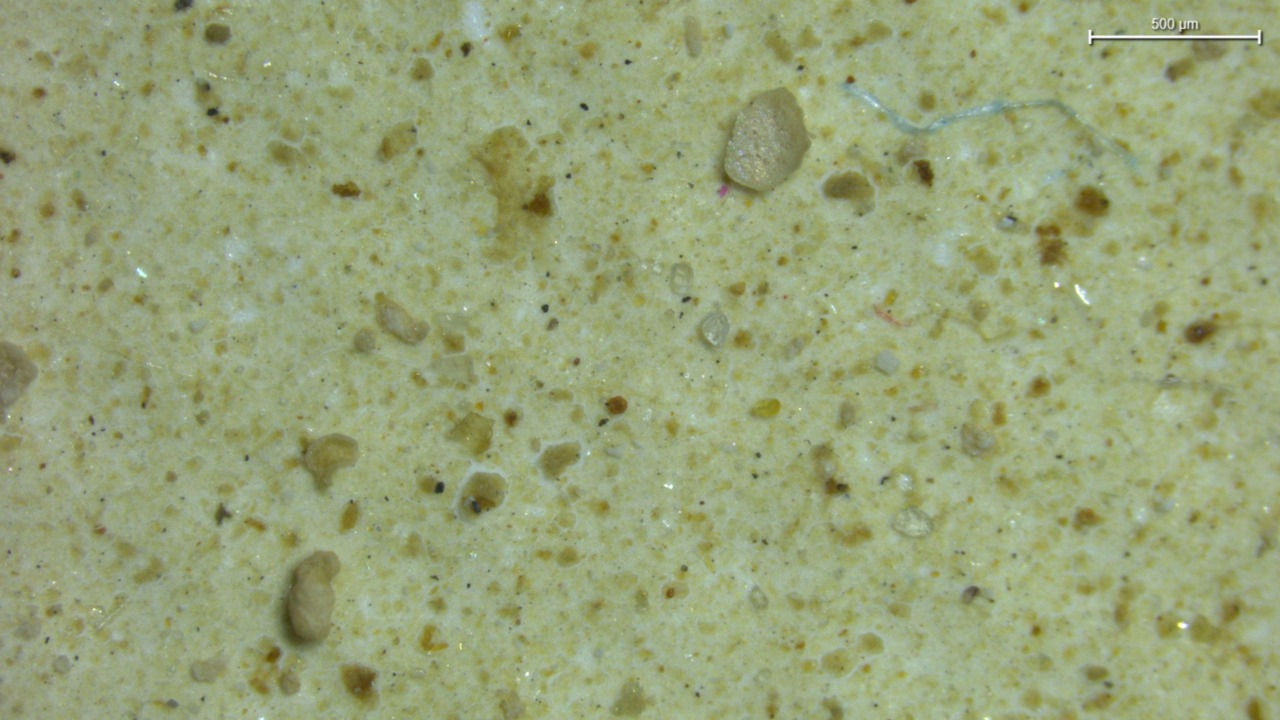microplastic_fragment: (724, 88, 810, 192), (285, 551, 340, 642), (376, 294, 428, 344), (892, 506, 933, 537), (700, 313, 729, 346), (875, 350, 900, 374)
